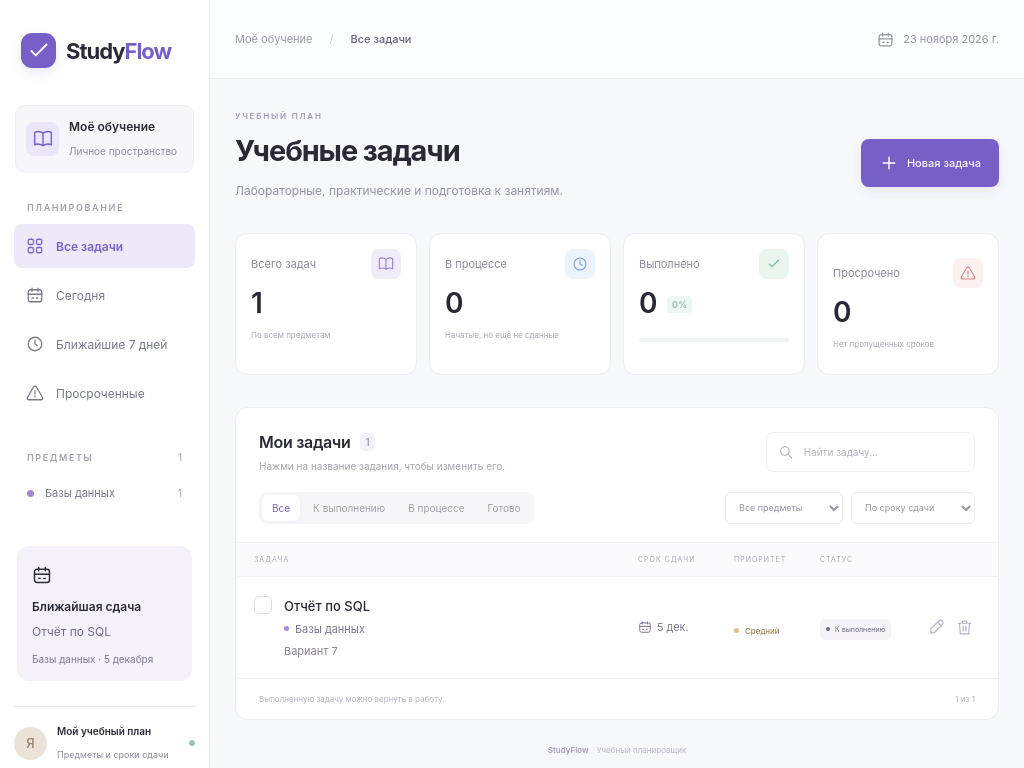
it: Работа с заданиями › сохраняет введённый текст, если сервер отклонил создание
Expected: the button "Отчёт по SQL" is shown, [284,595,370,617]
Click the button "Новая задача" at x=930, y=163, box [861,139,999,187]
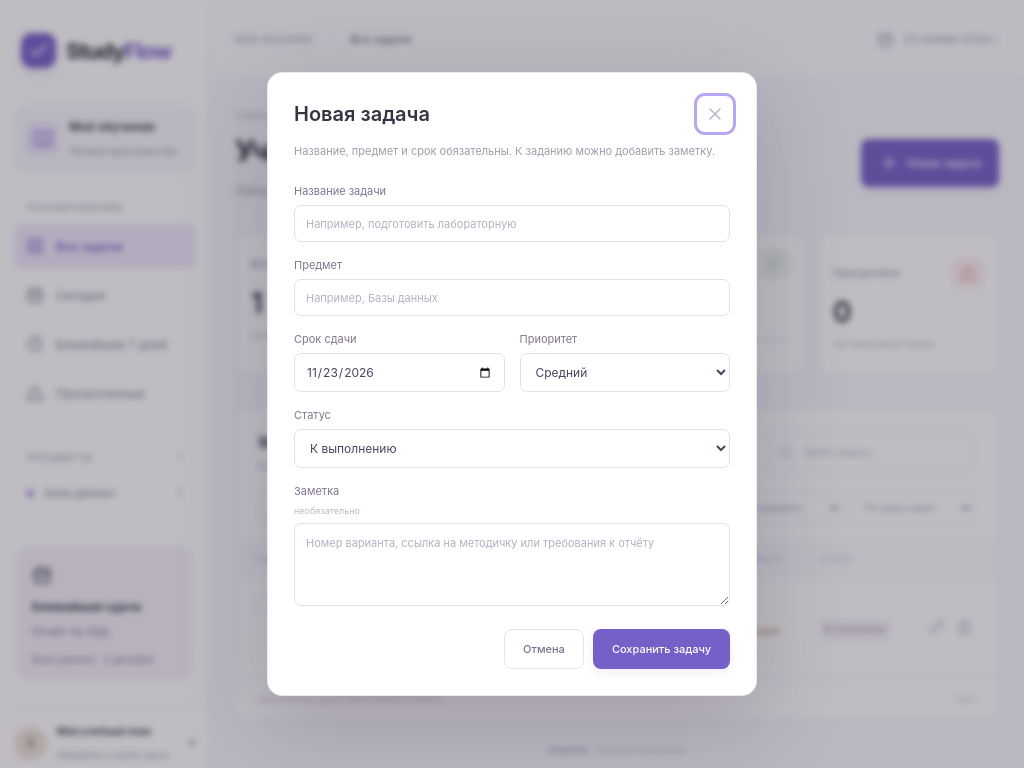
Type "Эссе" into the field labelled "Название задачи" at x=512, y=224, box [294,205,730,242]
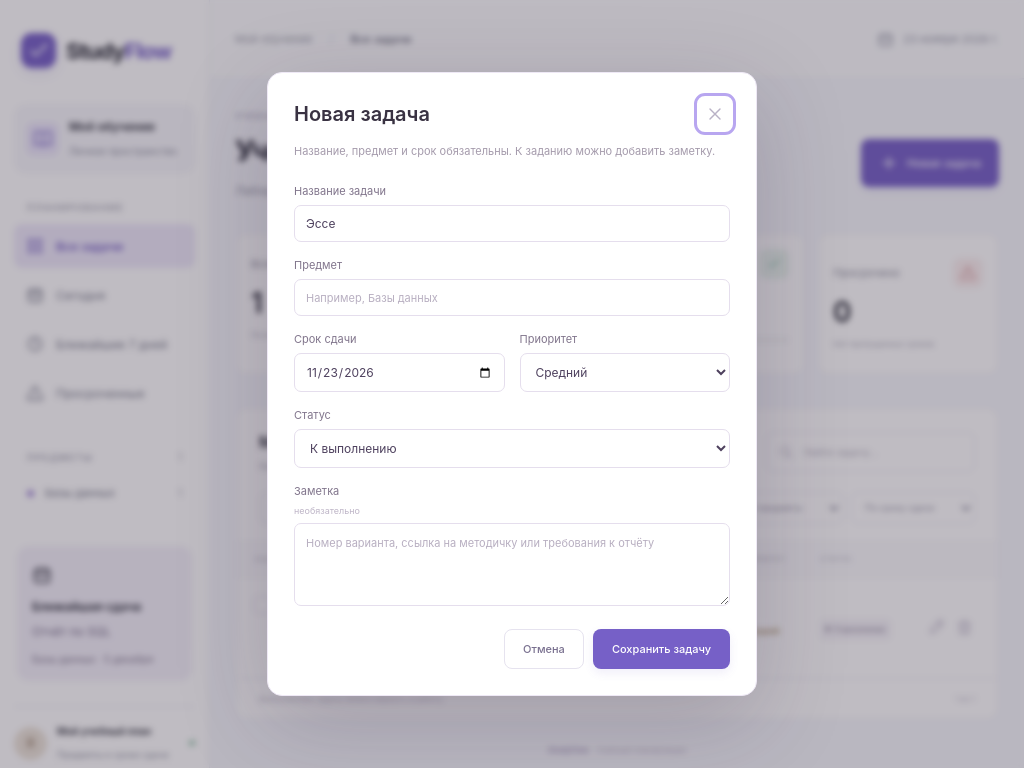
Type "Английский язык" into the field labelled "Предмет" at x=512, y=298, box [294,279,730,316]
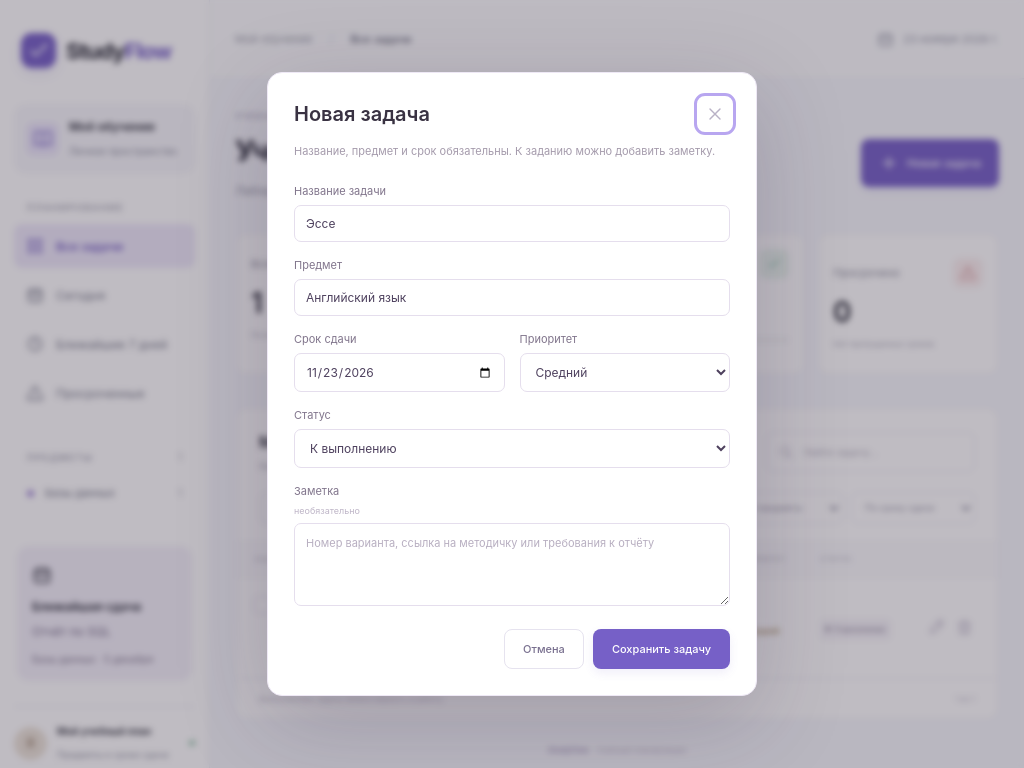
Click the button "Сохранить задачу" at x=661, y=650, box [593,630,730,670]
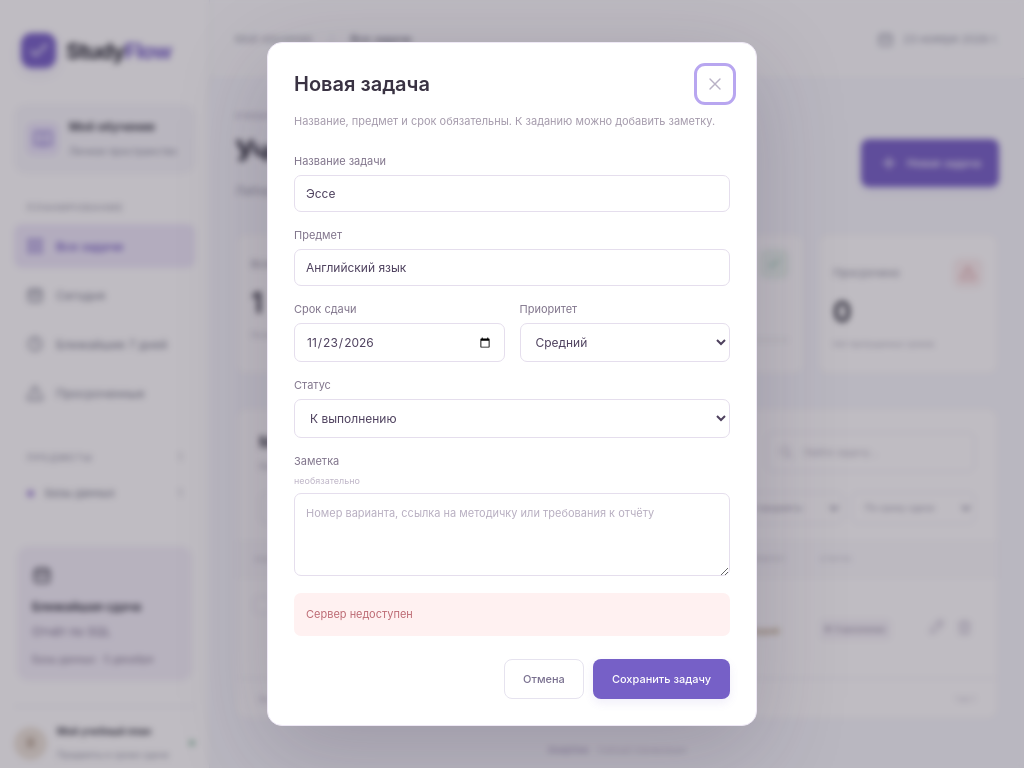
Expected: the message reads "Сервер недоступен", [306,607,413,621]
